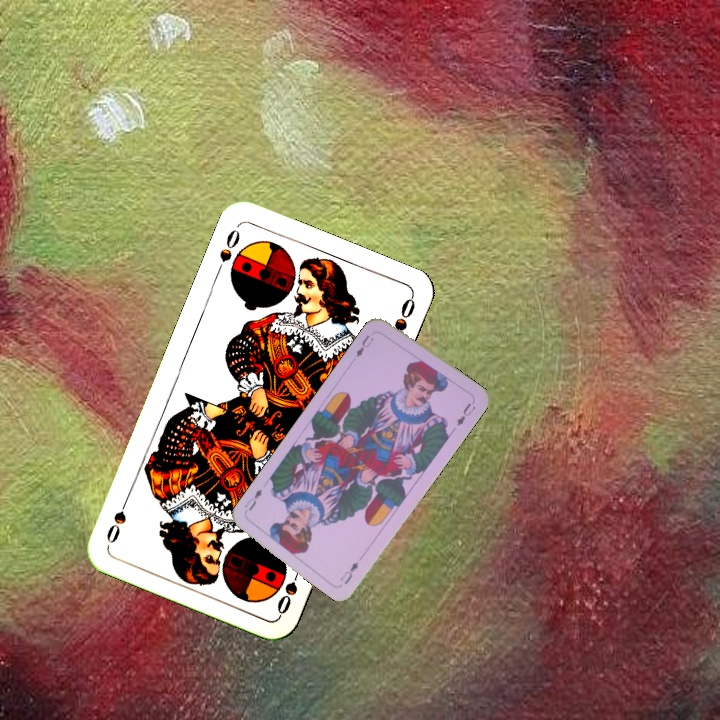EU: (336, 557, 361, 587), (352, 331, 377, 360)
SO: (273, 561, 305, 617), (211, 225, 243, 278)
